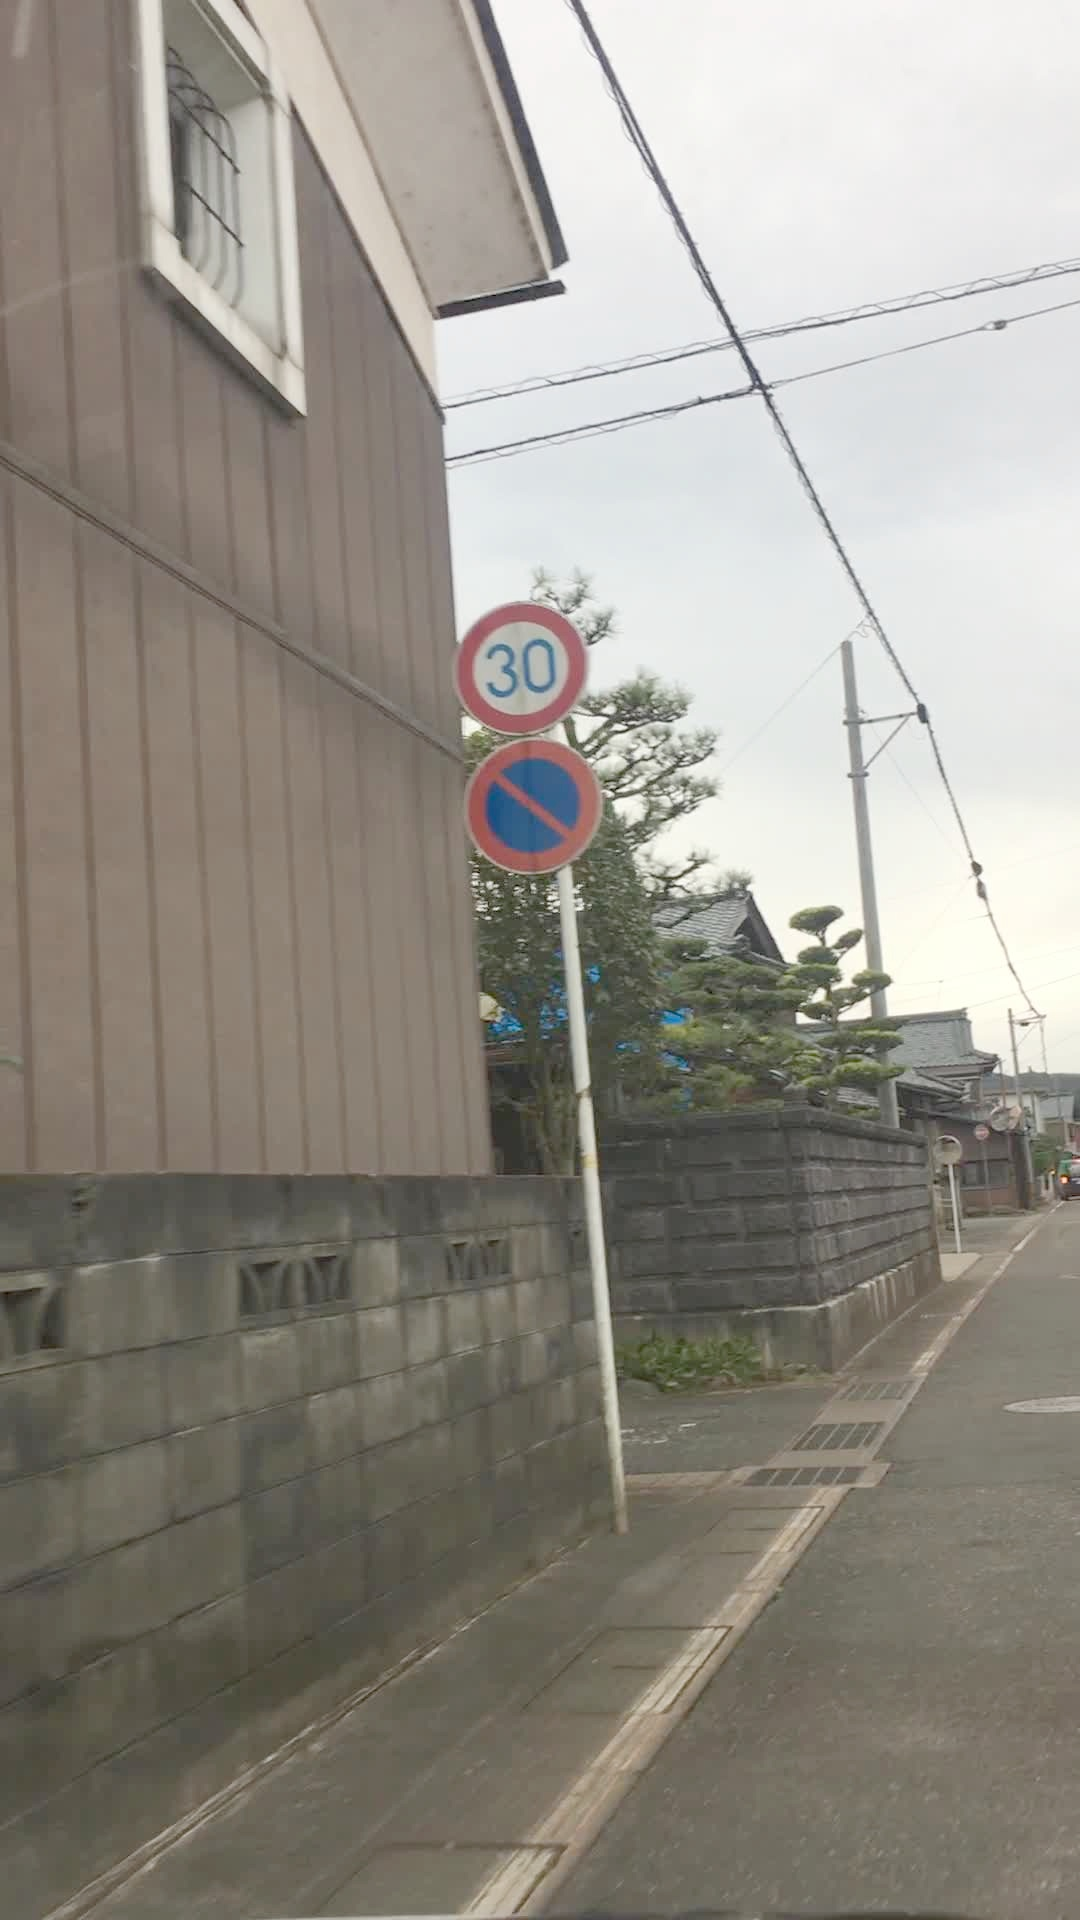Prohibition_sign: (444, 736, 630, 895)
Speed_sign: (442, 589, 596, 754)
